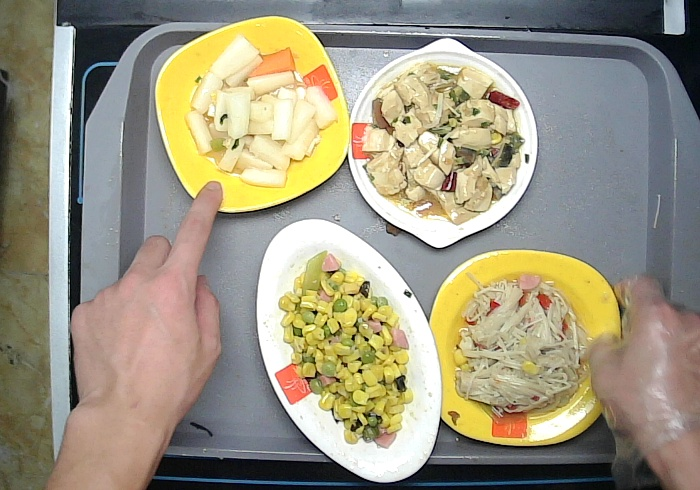SHKJ-Bao_Yu_Pan: (346, 37, 539, 250)
SHKJ-Huang_Se_Cai_Die: (155, 16, 352, 212)
SHKJ-Huang_Se_Si_Fang_Cai_Die: (427, 248, 621, 444)
SHKJ-Yu_Pan: (255, 219, 442, 483)
